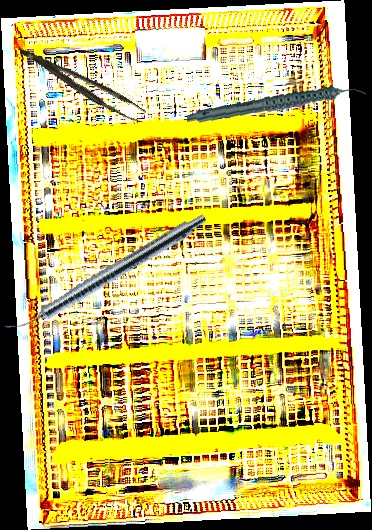Handpiece: (3, 207, 210, 342), (186, 74, 367, 136)
Tissue Forceps: (19, 34, 147, 130)
